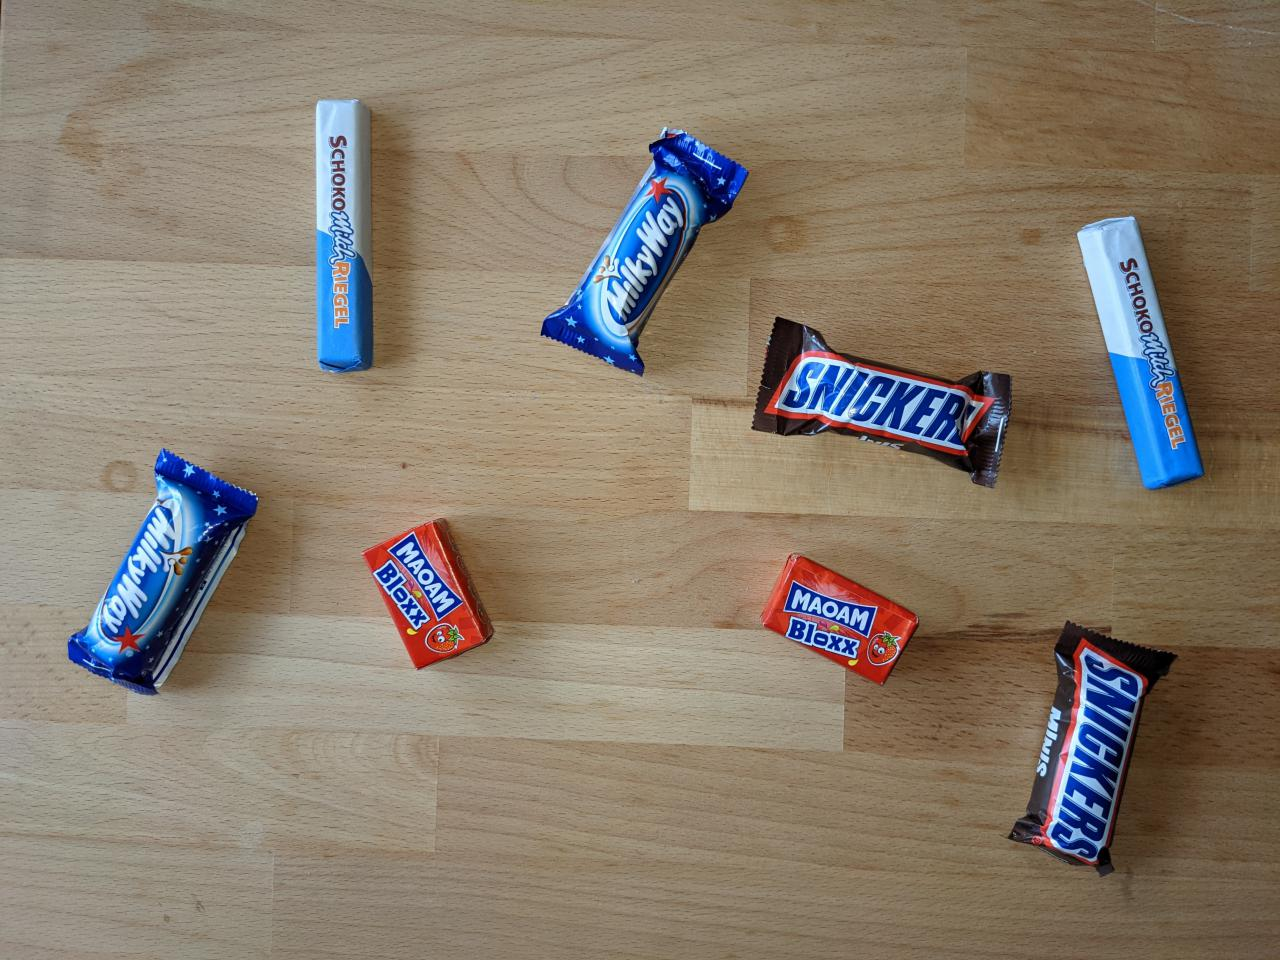MAOAM: (756, 547, 926, 692), (356, 514, 500, 676)
MilkyWay: (535, 121, 756, 380), (65, 443, 265, 699)
Schokoriegel: (1072, 209, 1211, 493), (307, 94, 379, 376)
Snickers: (743, 311, 1019, 493), (998, 617, 1183, 883)
